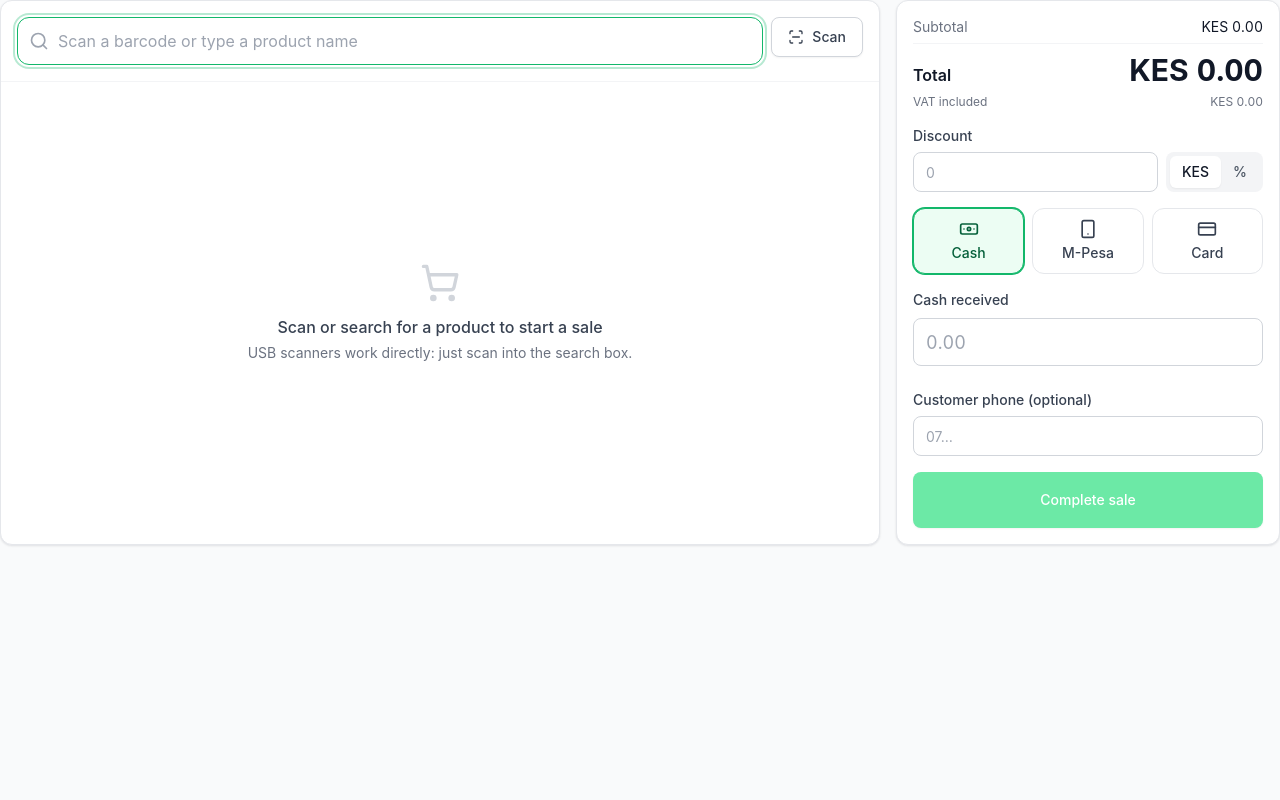
Test case: scanner bursts › M-Pesa payment prompt (STK push) › explains a cancelled prompt and keeps the sale blocked
The image size is (1280, 800).
Type "2000000000015" into the dropdown named "Find product" at (390, 41), box x1=17 y1=17 x2=763 y2=65
Then press Enter
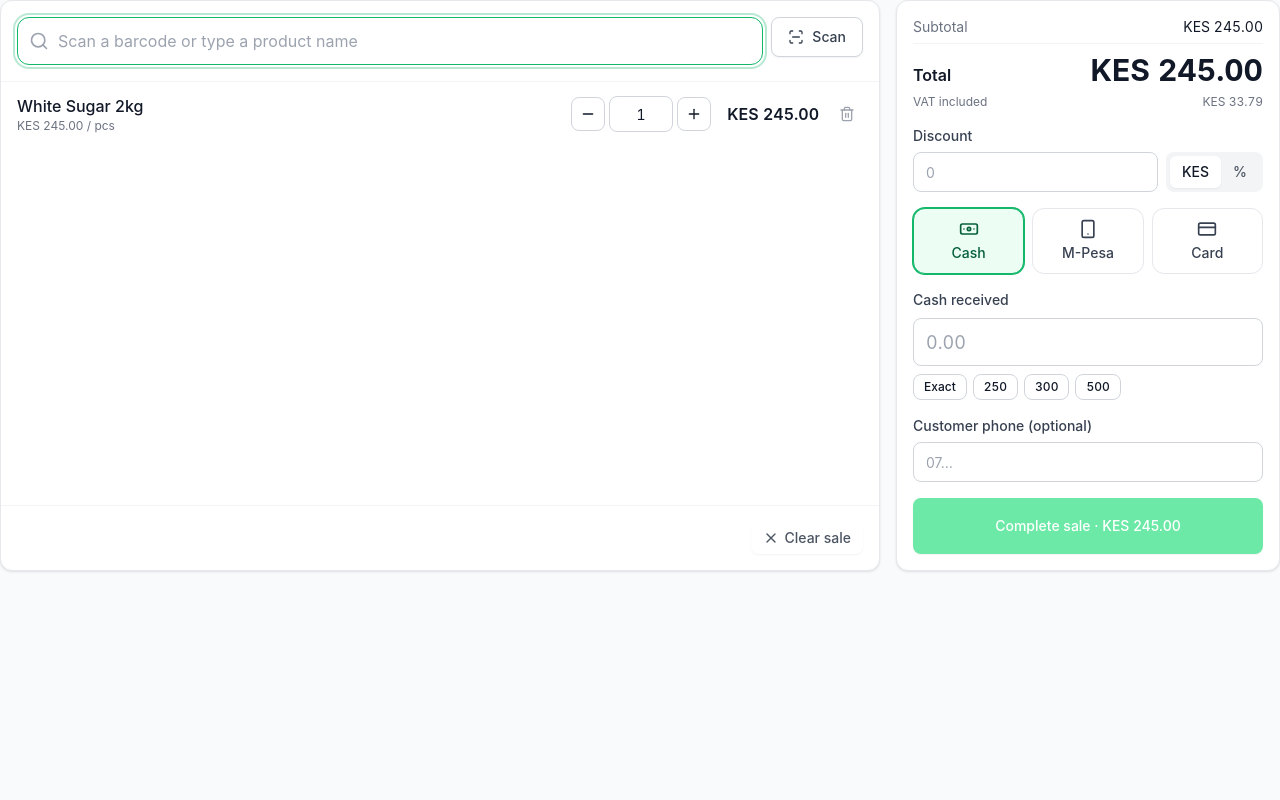
Click the radio button labelled "M-Pesa" at (1088, 241), box x1=1032 y1=208 x2=1144 y2=274
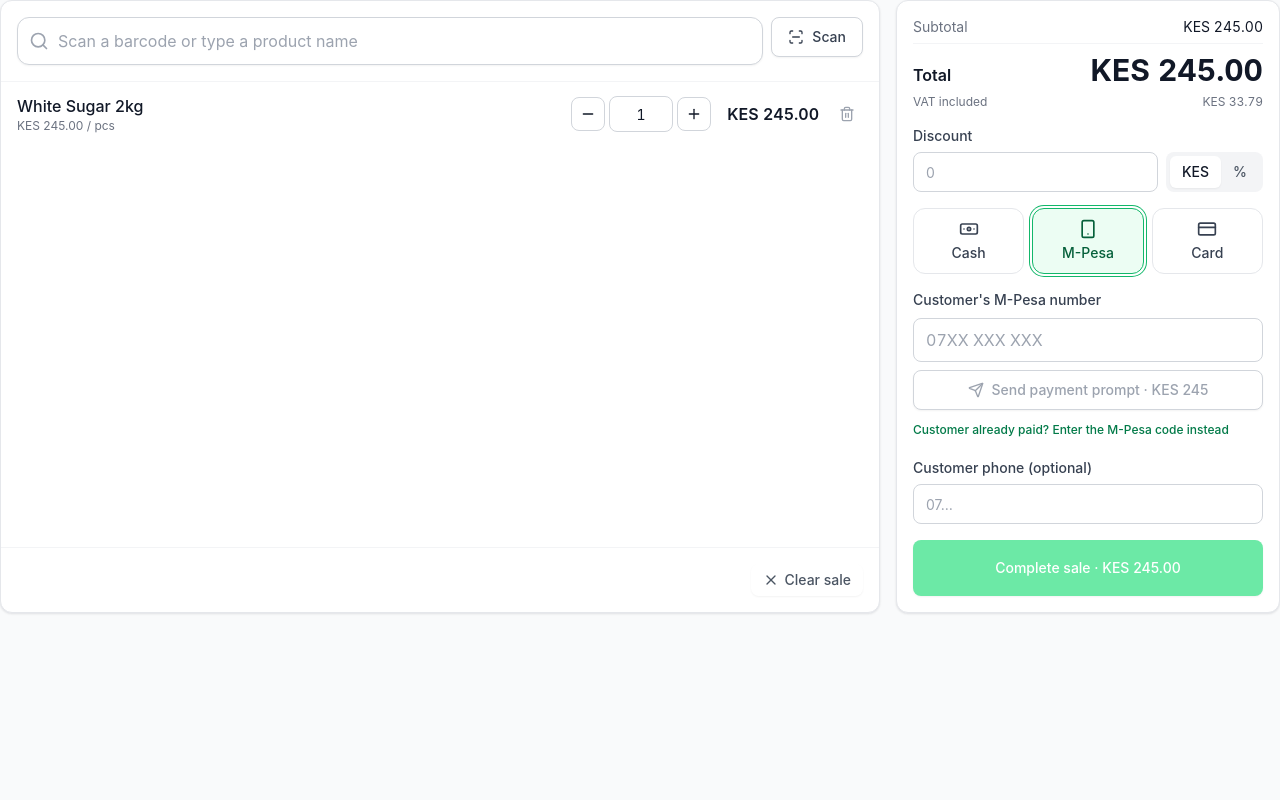
Type "0712345678" into the field labelled "Customer's M-Pesa number" at (1088, 340), box x1=913 y1=318 x2=1263 y2=362
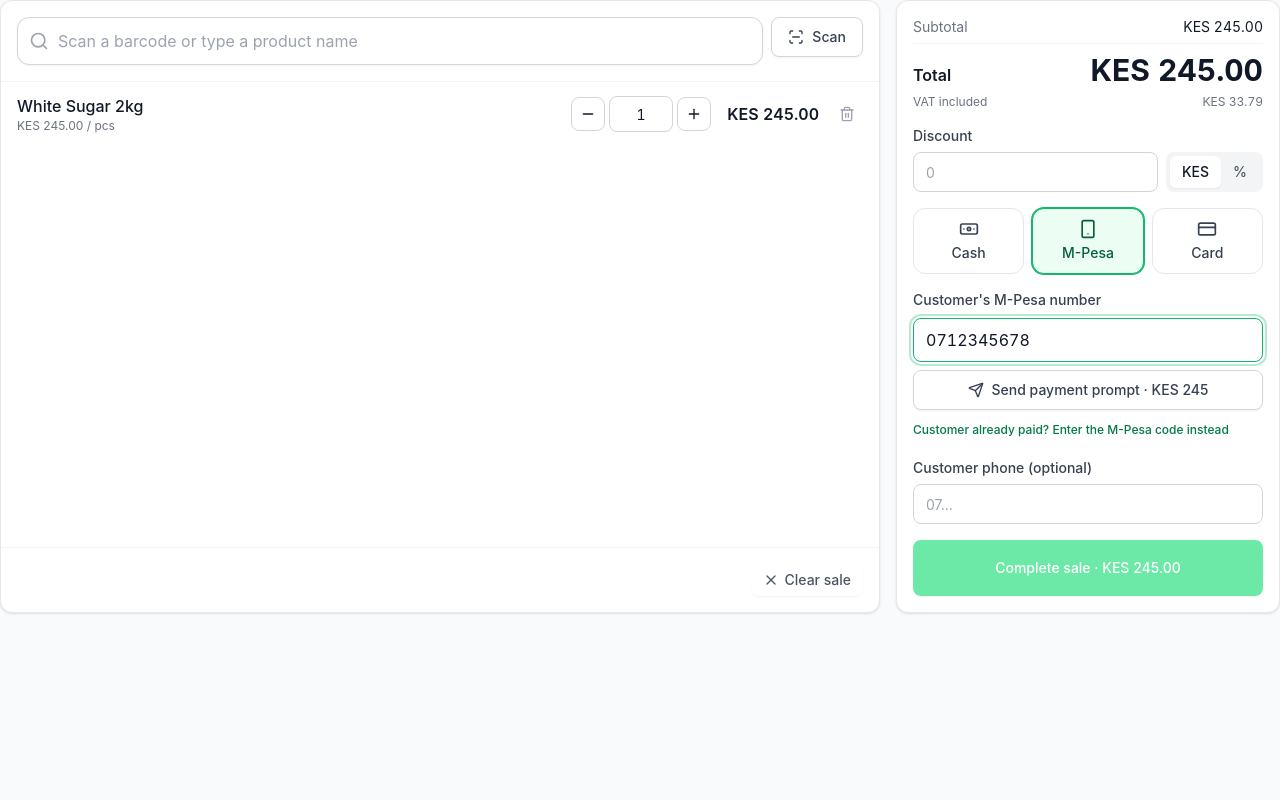
Click the button "Send payment prompt · KES 245" at (1088, 390), box x1=913 y1=370 x2=1263 y2=410
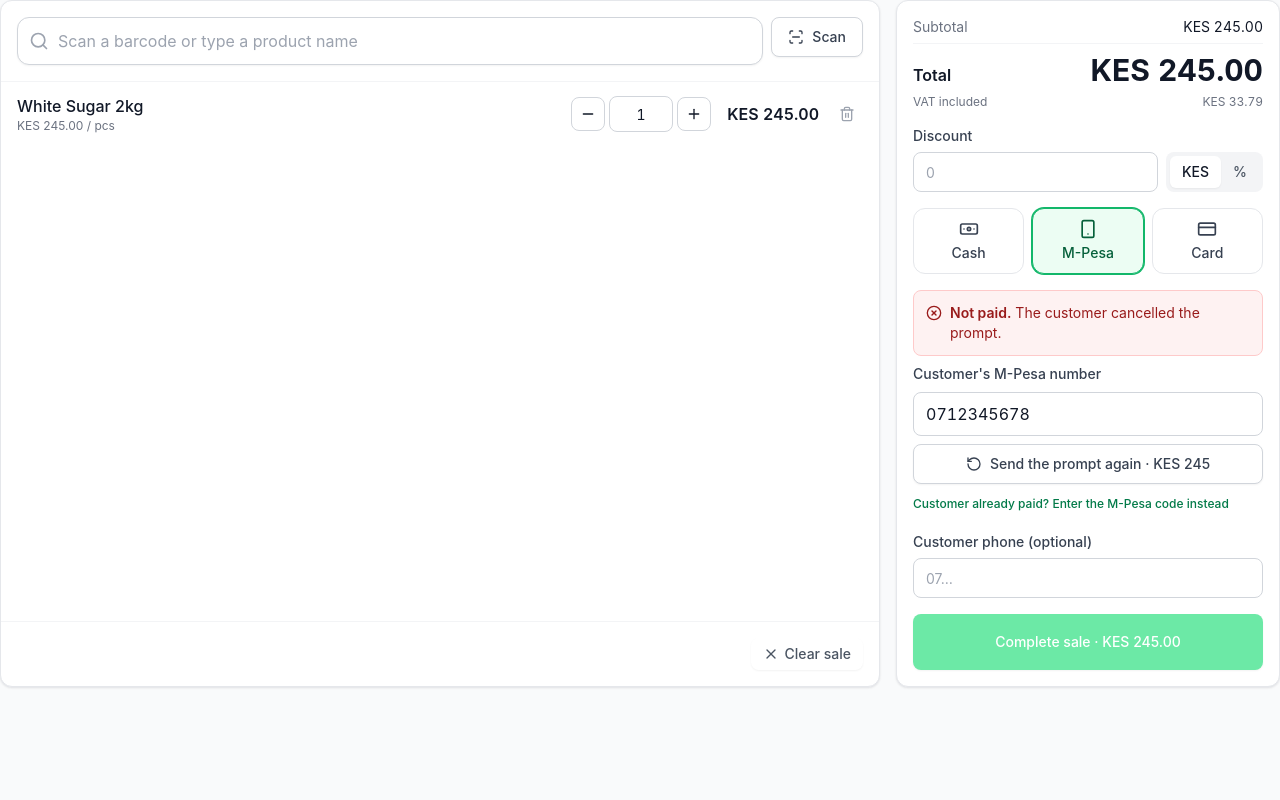
Check: the button "Complete sale · KES 245.00" is disabled, box x1=913 y1=614 x2=1263 y2=670
Check: the button "Send the prompt again · KES 245" is enabled, box x1=913 y1=444 x2=1263 y2=484
Check: the text "The customer cancelled the prompt." is shown, box x1=950 y1=304 x2=1200 y2=341
